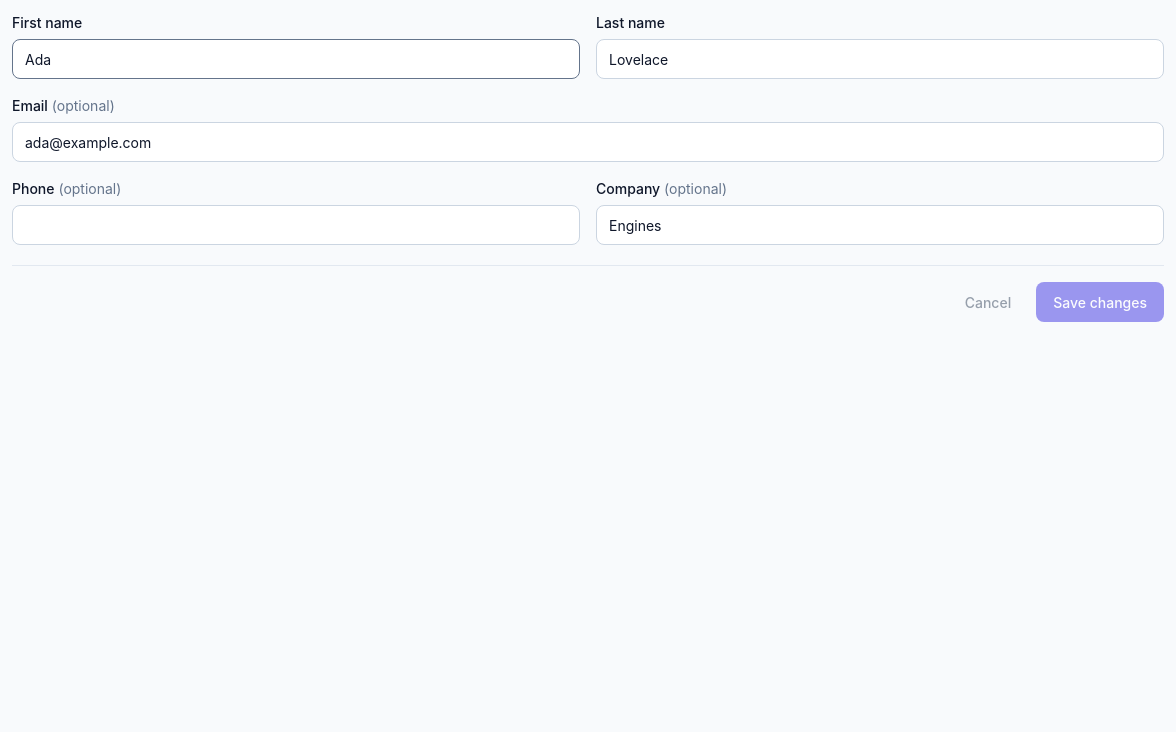
Test: ContactForm › when someone else saved first › can discard my edit and load the saved version
Replace the text in the field labelled "Company (optional)" with "My Co": (880, 225) [596,205,1164,245]
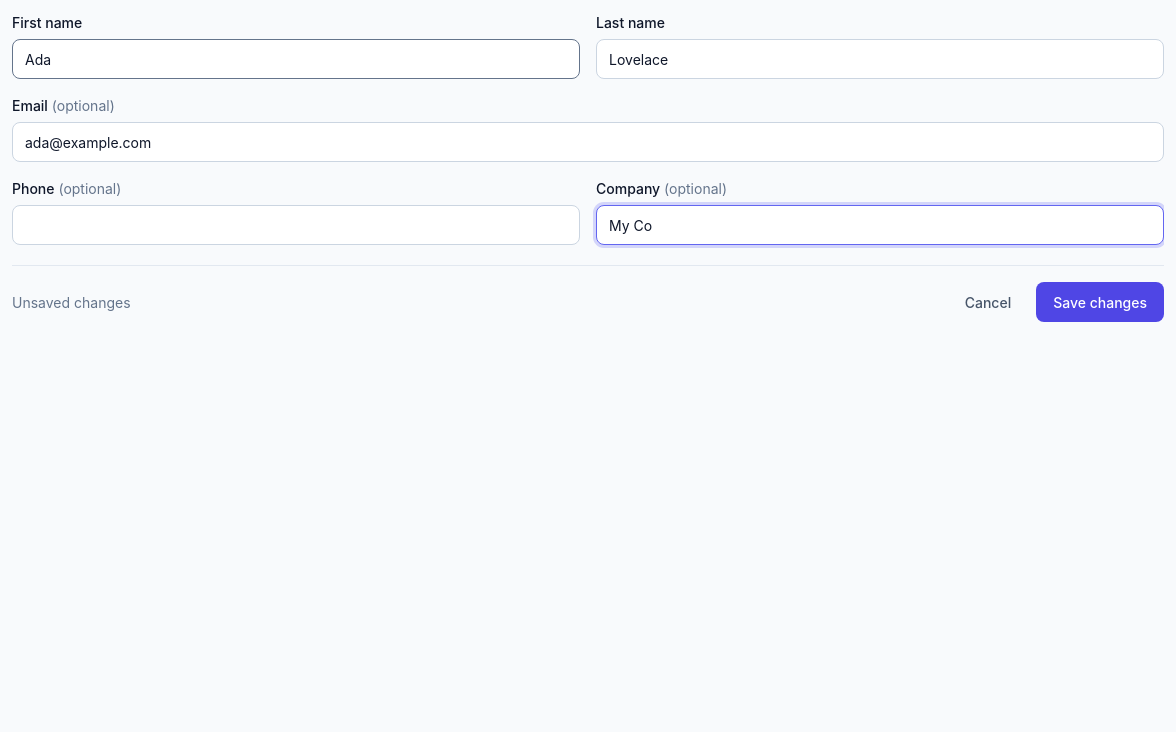
Click the button "Save changes": click(1100, 302) [1036,282,1164,322]
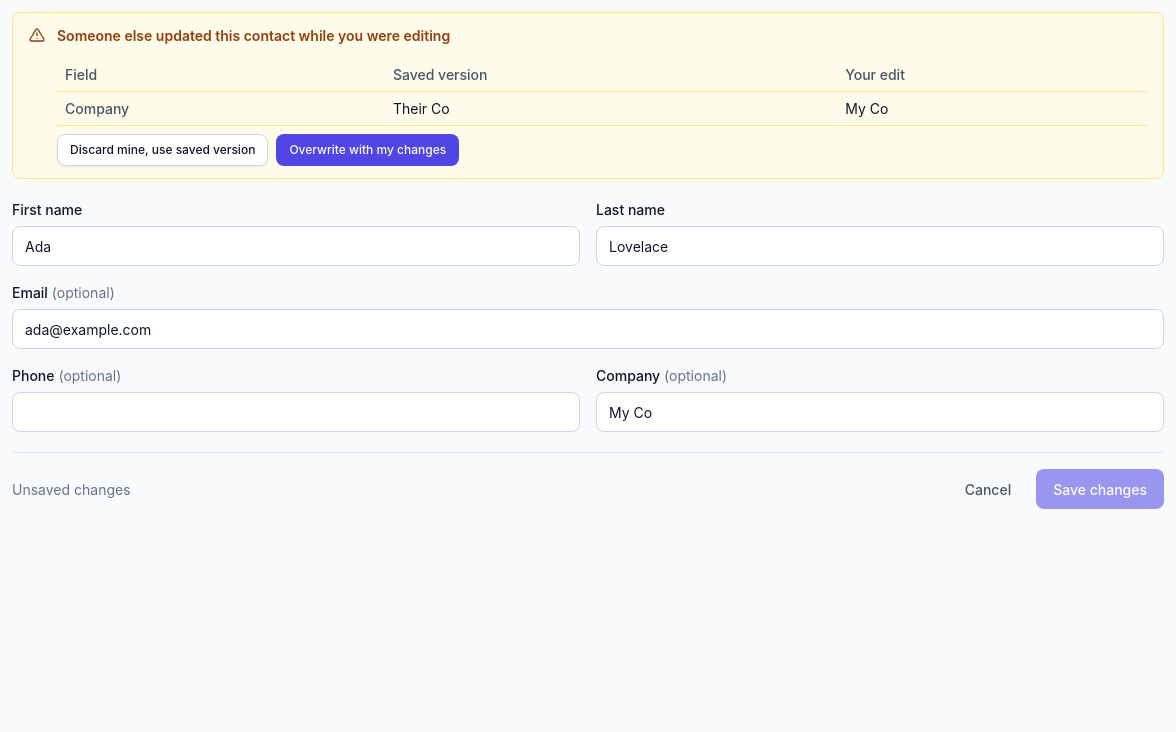
Now the text "Someone else updated this contact while you were editing" is shown, box [57,27,450,44]
Click the button "Discard mine, use saved version": click(163, 150) [57,134,268,166]
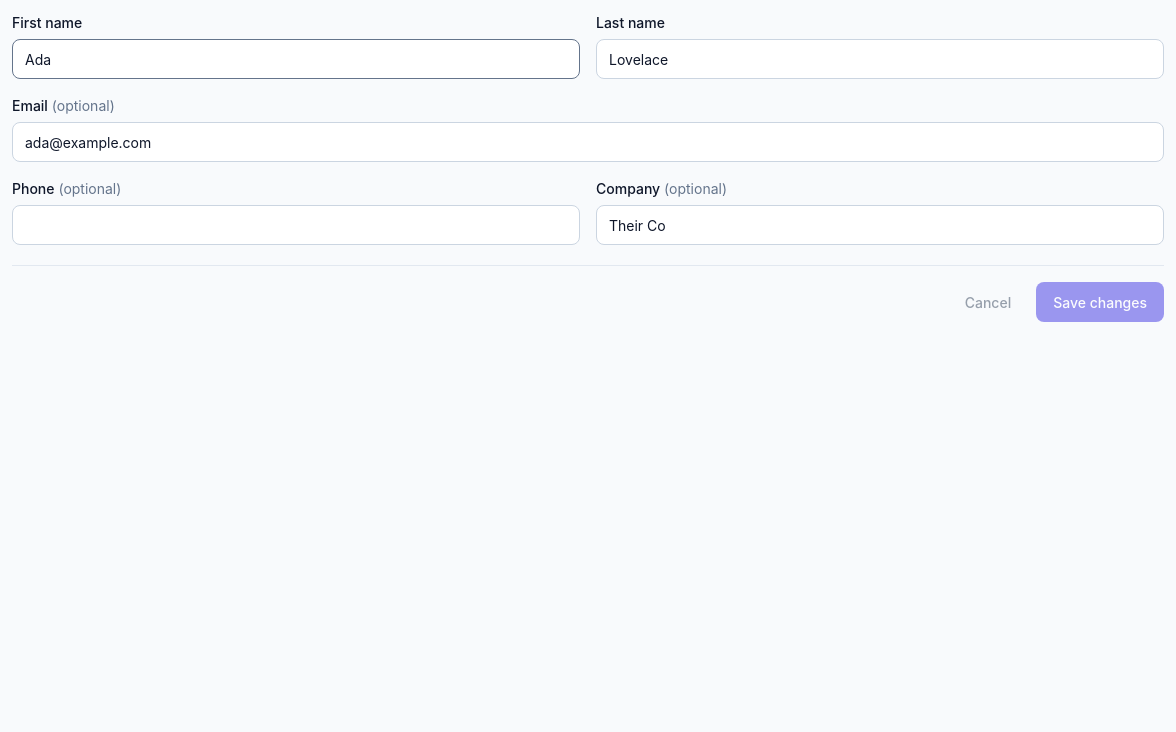
Now the field labelled "Company (optional)" holds "Their Co", box [596,205,1164,245]
Now the text "Someone else updated" is gone
